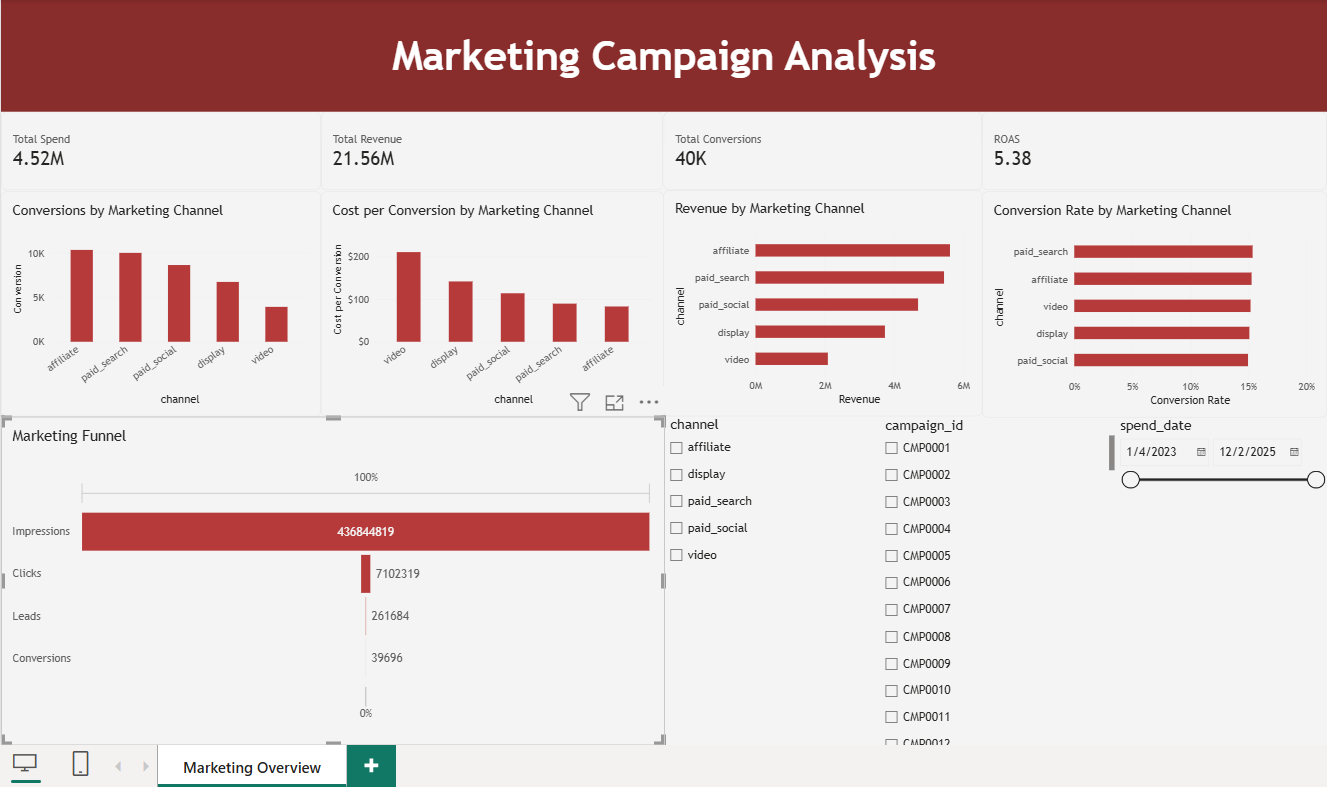

Layout of this report page (visuals, bound fields, positions):
{"tool":"powerbi","page":{"name":"Marketing Overview","canvas":[1920,1080],"ordinal":0},"visuals":[{"type":"cardVisual","fields":{"Data":["Sum(marketing_campaigns_powerbi.spend)"]},"box":[0,162.9,463.3,114],"z":0},{"type":"cardVisual","fields":{"Data":["Sum(marketing_campaigns_powerbi.revenue)"]},"box":[463.3,162.9,495.8,114],"z":1000},{"type":"cardVisual","fields":{"Data":["Sum(marketing_campaigns_powerbi.conversions)"]},"box":[959.1,162.9,461.5,114],"z":2000},{"type":"cardVisual","fields":{"Data":["Avg(marketing_campaigns_powerbi.roas)"]},"box":[1420.6,162.9,499.5,114],"z":3000},{"type":"textbox","box":[0,0,1920.1,162.9],"z":4000},{"type":"clusteredColumnChart","title":"Cost per Conversion by Marketing Channel","fields":{"Category":["marketing_campaigns_powerbi.channel"],"Y":["marketing_campaigns_powerbi.Cost per Conversion"]},"box":[463.3,278.7,495.8,325.7],"z":4003},{"type":"clusteredBarChart","title":"Revenue by Marketing Channel","fields":{"Category":["marketing_campaigns_powerbi.channel"],"Y":["Sum(marketing_campaigns_powerbi.revenue)"]},"box":[959.1,276.9,461.5,327.5],"z":4004},{"type":"clusteredBarChart","title":"Conversion Rate by Marketing Channel","fields":{"Category":["marketing_campaigns_powerbi.channel"],"Y":["Avg(marketing_campaigns_powerbi.conversion_rate)"]},"box":[1420.6,278.7,499.5,327.5],"z":4005},{"type":"clusteredColumnChart","title":"Conversions by Marketing Channel","fields":{"Category":["marketing_campaigns_powerbi.channel"],"Y":["Sum(marketing_campaigns_powerbi.conversions)"]},"box":[0,278.7,463.3,325.7],"z":4006},{"type":"funnel","title":"Marketing Funnel","fields":{"Category":["marketing_funnel.stage"],"Y":["Sum(marketing_funnel.count)"]},"box":[0,604.4,960.9,475.9],"z":4007},{"type":"slicer","fields":{"Values":["marketing_campaigns_powerbi.channel"]},"box":[960.9,604.4,311.3,475.9],"z":4008},{"type":"slicer","fields":{"Values":["marketing_campaigns_powerbi.campaign_id"]},"box":[1272.2,606.2,340.2,474.1],"z":4009},{"type":"slicer","fields":{"Values":["marketing_campaigns_powerbi.spend_date"]},"box":[1612,607,308,473],"z":4010}]}

Visuals, with their boxes on the page's 1920x1080 design canvas (x1, y1, x2, y2). These are canvas units, not pixel positions in the 1327x787 screenshot, which may show the page scaled, cropped or inside an application window:
cardVisual - Sum(marketing_campaigns_powerbi.spend): bbox=(0, 163, 463, 277)
cardVisual - Sum(marketing_campaigns_powerbi.revenue): bbox=(463, 163, 959, 277)
cardVisual - Sum(marketing_campaigns_powerbi.conversions): bbox=(959, 163, 1421, 277)
cardVisual - Avg(marketing_campaigns_powerbi.roas): bbox=(1421, 163, 1920, 277)
textbox: bbox=(0, 0, 1920, 163)
"Cost per Conversion by Marketing Channel" clusteredColumnChart: bbox=(463, 279, 959, 604)
"Revenue by Marketing Channel" clusteredBarChart: bbox=(959, 277, 1421, 604)
"Conversion Rate by Marketing Channel" clusteredBarChart: bbox=(1421, 279, 1920, 606)
"Conversions by Marketing Channel" clusteredColumnChart: bbox=(0, 279, 463, 604)
"Marketing Funnel" funnel: bbox=(0, 604, 961, 1080)
slicer - marketing_campaigns_powerbi.channel: bbox=(961, 604, 1272, 1080)
slicer - marketing_campaigns_powerbi.campaign_id: bbox=(1272, 606, 1612, 1080)
slicer - marketing_campaigns_powerbi.spend_date: bbox=(1612, 607, 1920, 1080)
